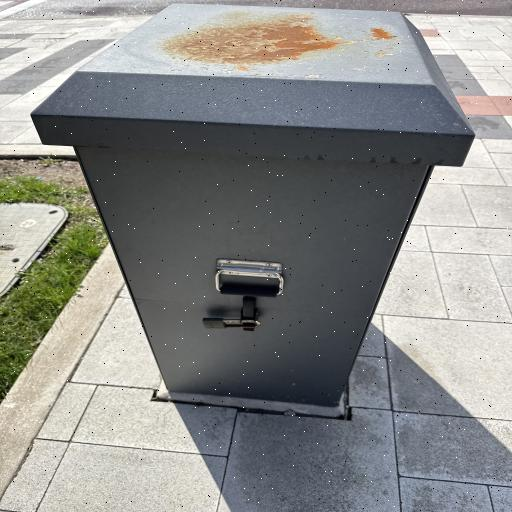Electrical Box: (32, 2, 477, 404)
